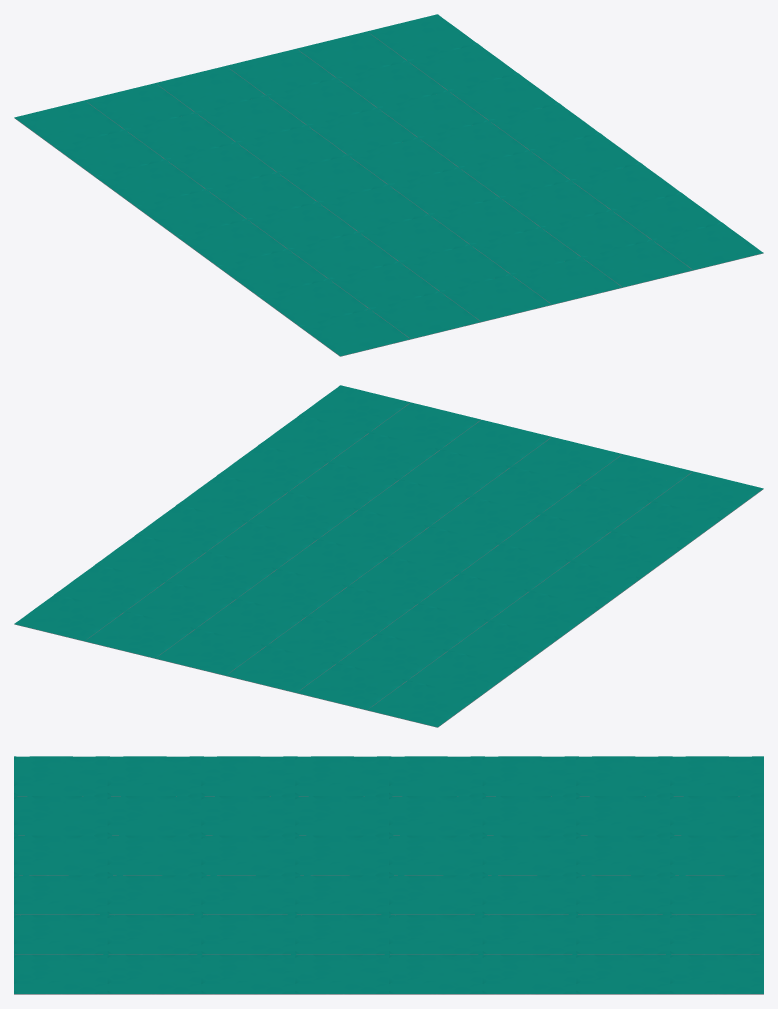
The model's file is QmdgrtRSieZhjRL26Uz9r2r6an3ee2aowY2FiYJrYvp5B1_lod2.fbx.
The picture shows the model from 3 angles, top to bottom: view 1: azimuth 30°, elevation 25°; view 2: azimuth 150°, elevation 25°; view 3: azimuth 270°, elevation 25°; orthographic projection. The views are drawn at different scales.
Visible parts, largest first — view 1: Entity_512; view 2: Entity_512; view 3: Entity_512.
Part boxes in pixels (x1,y1,x2,y2): Entity_512: (14,14,763,356); Entity_512: (14,385,763,727); Entity_512: (14,756,763,994).
Size of the model in its own units: 48000 by 67.63 by 64008.
Materials: 1 (1 with a texture image).
